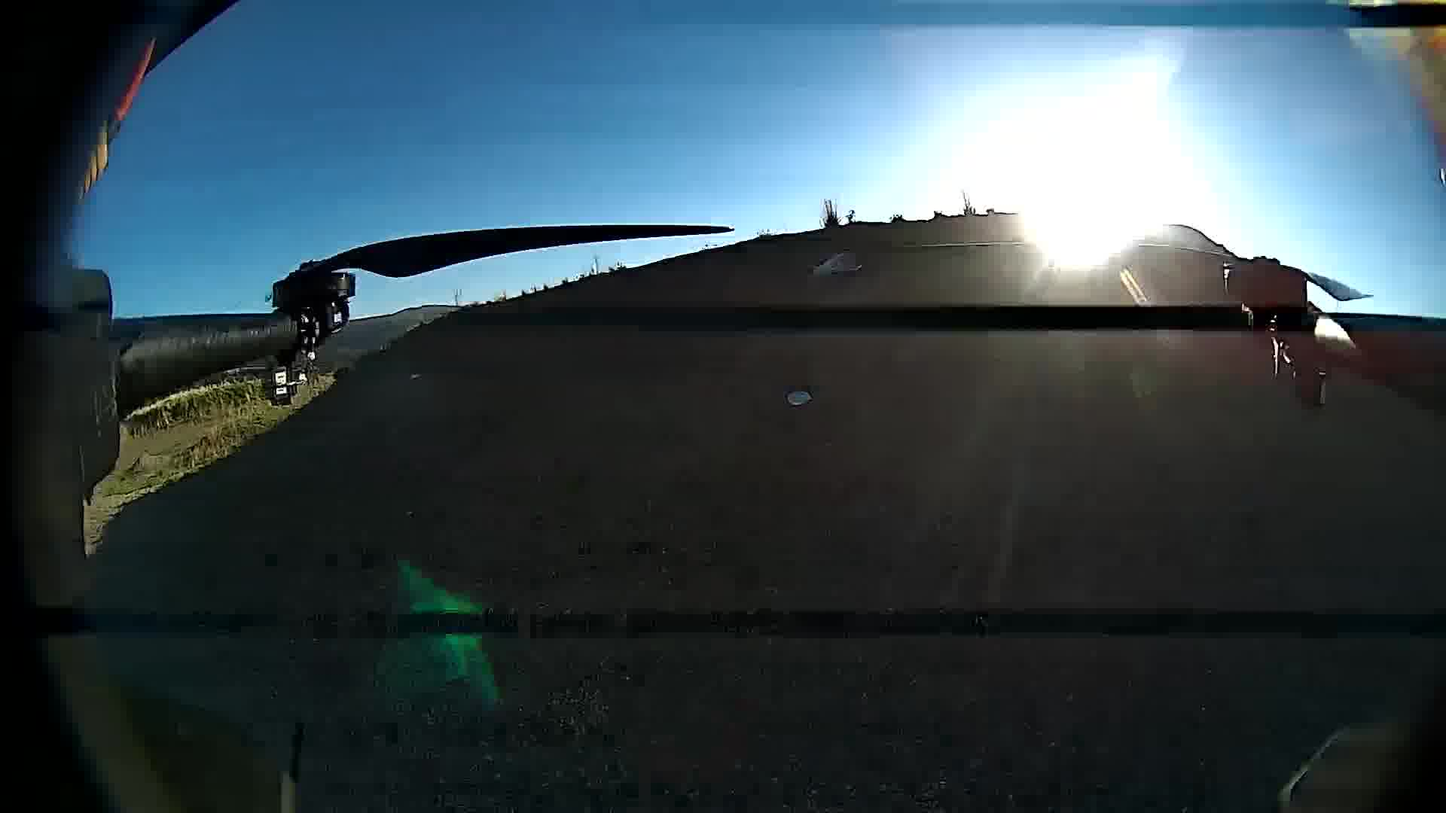Target: (786, 389, 812, 407)
